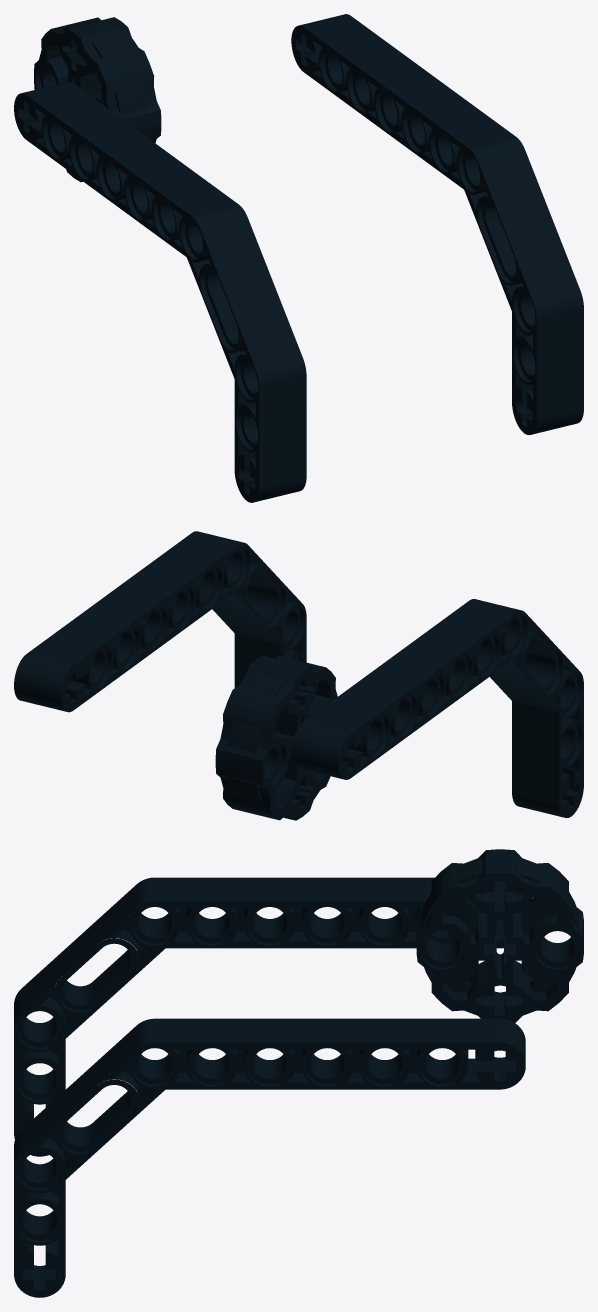
The model's file is mobile_fingers.dae.
3 renders of one model, top to bottom at view 1: azimuth 30°, elevation 25°; view 2: azimuth 150°, elevation 25°; view 3: azimuth 270°, elevation 25°, orthographic. The views are drawn at different scales.
Parts seen in each view (by area): view 1: Inner-Node-hand_dot_io-2, Inner-Node-hand_dot_io-0, Inner-Node-hand_dot_io-1; view 2: Inner-Node-hand_dot_io-2, Inner-Node-hand_dot_io-0, Inner-Node-hand_dot_io-1; view 3: Inner-Node-hand_dot_io-0, Inner-Node-hand_dot_io-2, Inner-Node-hand_dot_io-1.
Part boxes in pixels (x1=…): Inner-Node-hand_dot_io-2: x1=14, y1=82, x2=306, y2=502; Inner-Node-hand_dot_io-0: x1=291, y1=14, x2=583, y2=434; Inner-Node-hand_dot_io-1: x1=34, y1=17, x2=161, y2=182; Inner-Node-hand_dot_io-2: x1=291, y1=599, x2=583, y2=817; Inner-Node-hand_dot_io-0: x1=14, y1=531, x2=306, y2=712; Inner-Node-hand_dot_io-1: x1=215, y1=655, x2=337, y2=820; Inner-Node-hand_dot_io-0: x1=14, y1=1018, x2=525, y2=1297; Inner-Node-hand_dot_io-2: x1=14, y1=877, x2=521, y2=1156; Inner-Node-hand_dot_io-1: x1=416, y1=849, x2=583, y2=1022.
Bounding box in the file's own units: 136 × 118 × 198.
